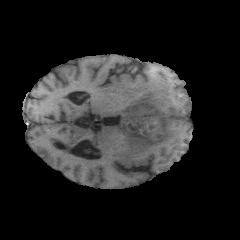glioma: (114, 74, 178, 151)
